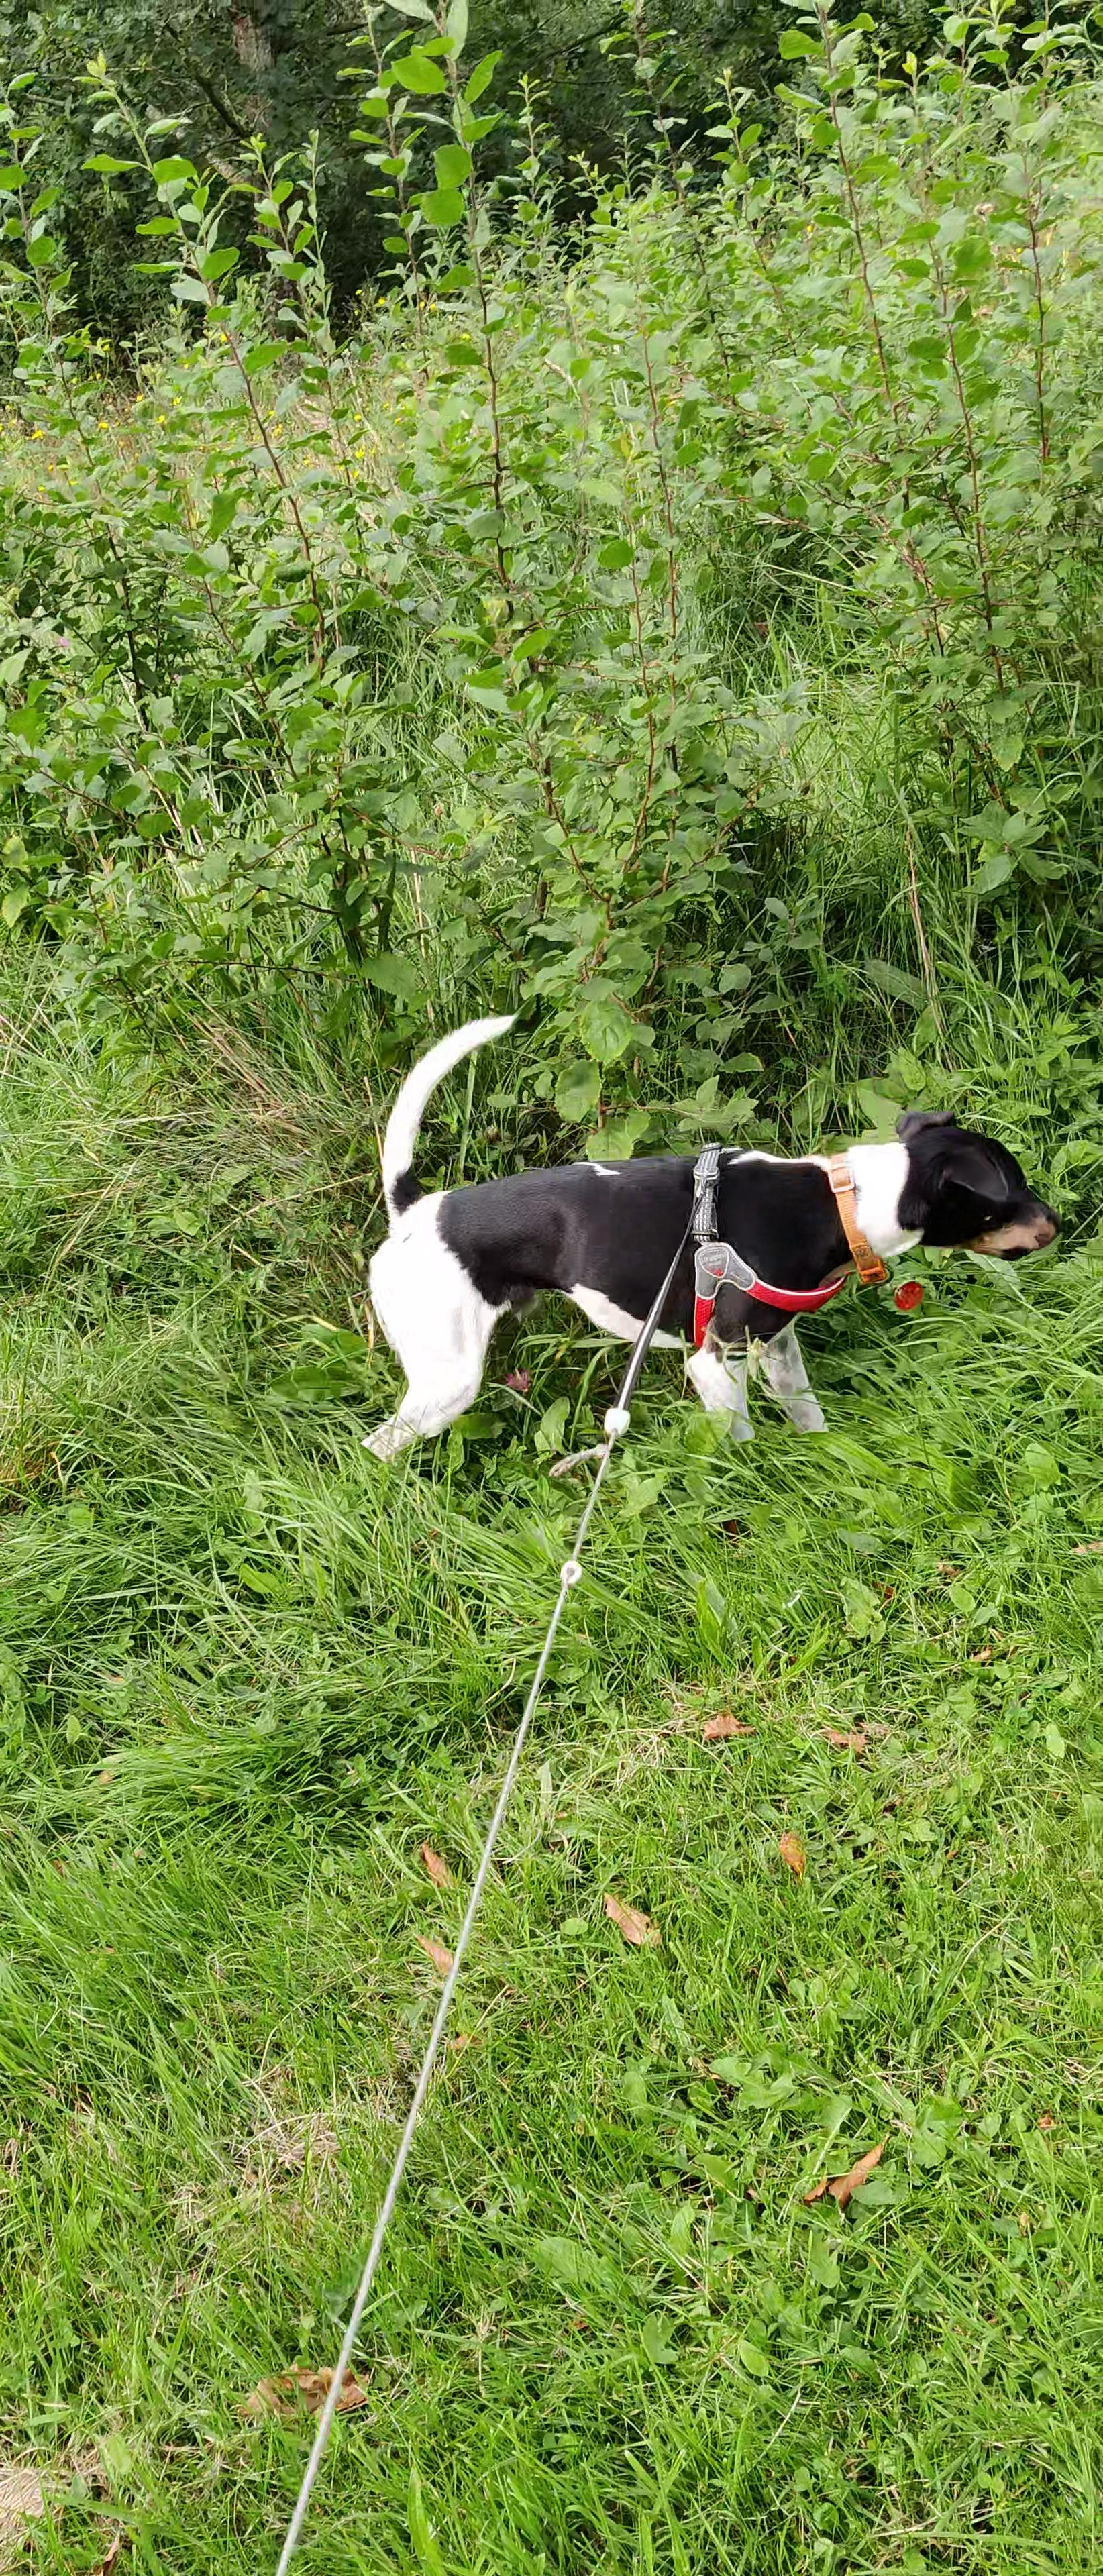Dog: (344, 999, 1080, 1493)
